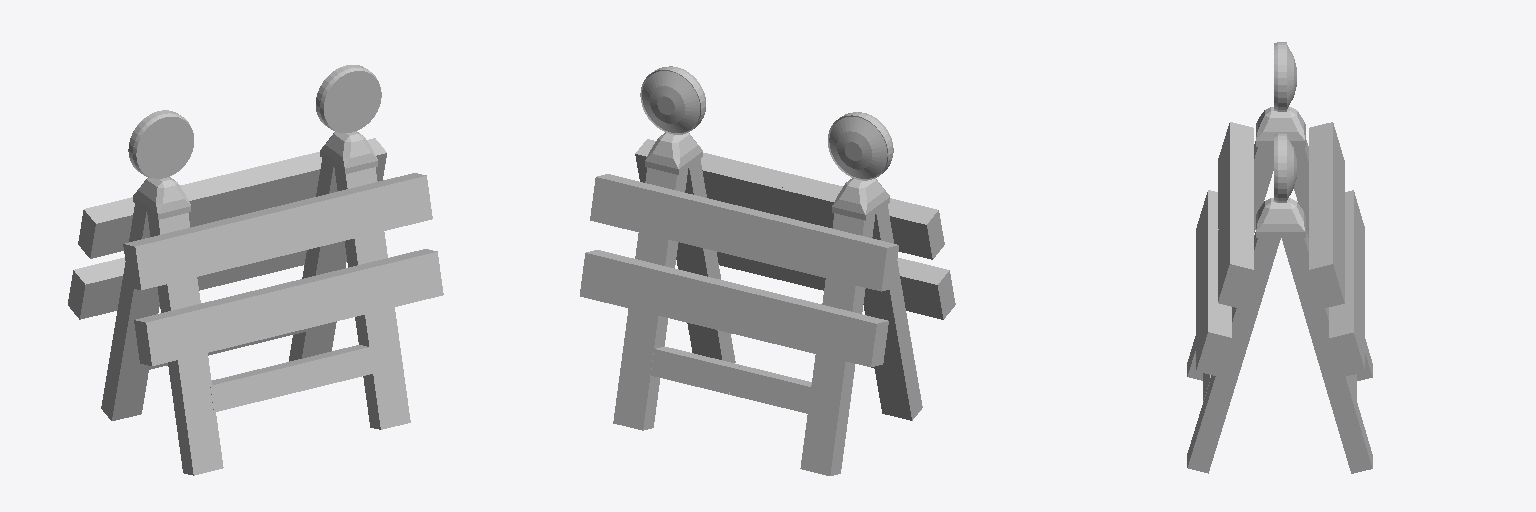
Rendered from valla.obj.
The picture shows the model from 3 angles: view 1: azimuth 30°, elevation 25°; view 2: azimuth 150°, elevation 25°; view 3: azimuth 270°, elevation 25°; orthographic projection.
Visible parts, largest first — view 1: polySurface22; view 2: polySurface22; view 3: polySurface22.
Part boxes in pixels (x1,y1,x2,y2): polySurface22: (68,65,443,475); polySurface22: (580,66,955,475); polySurface22: (1187,42,1372,473).
Bounding box in the file's own units: 2.31 × 2.5 × 1.27.